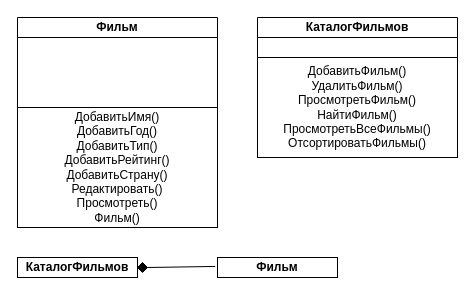
This 475x295 diagram has some shape labels left out. Each missing label, with the centre of its shape:
Имя Год Тип Рейтинг Страна: point 117,72
СписокФильмов: point 357,47
